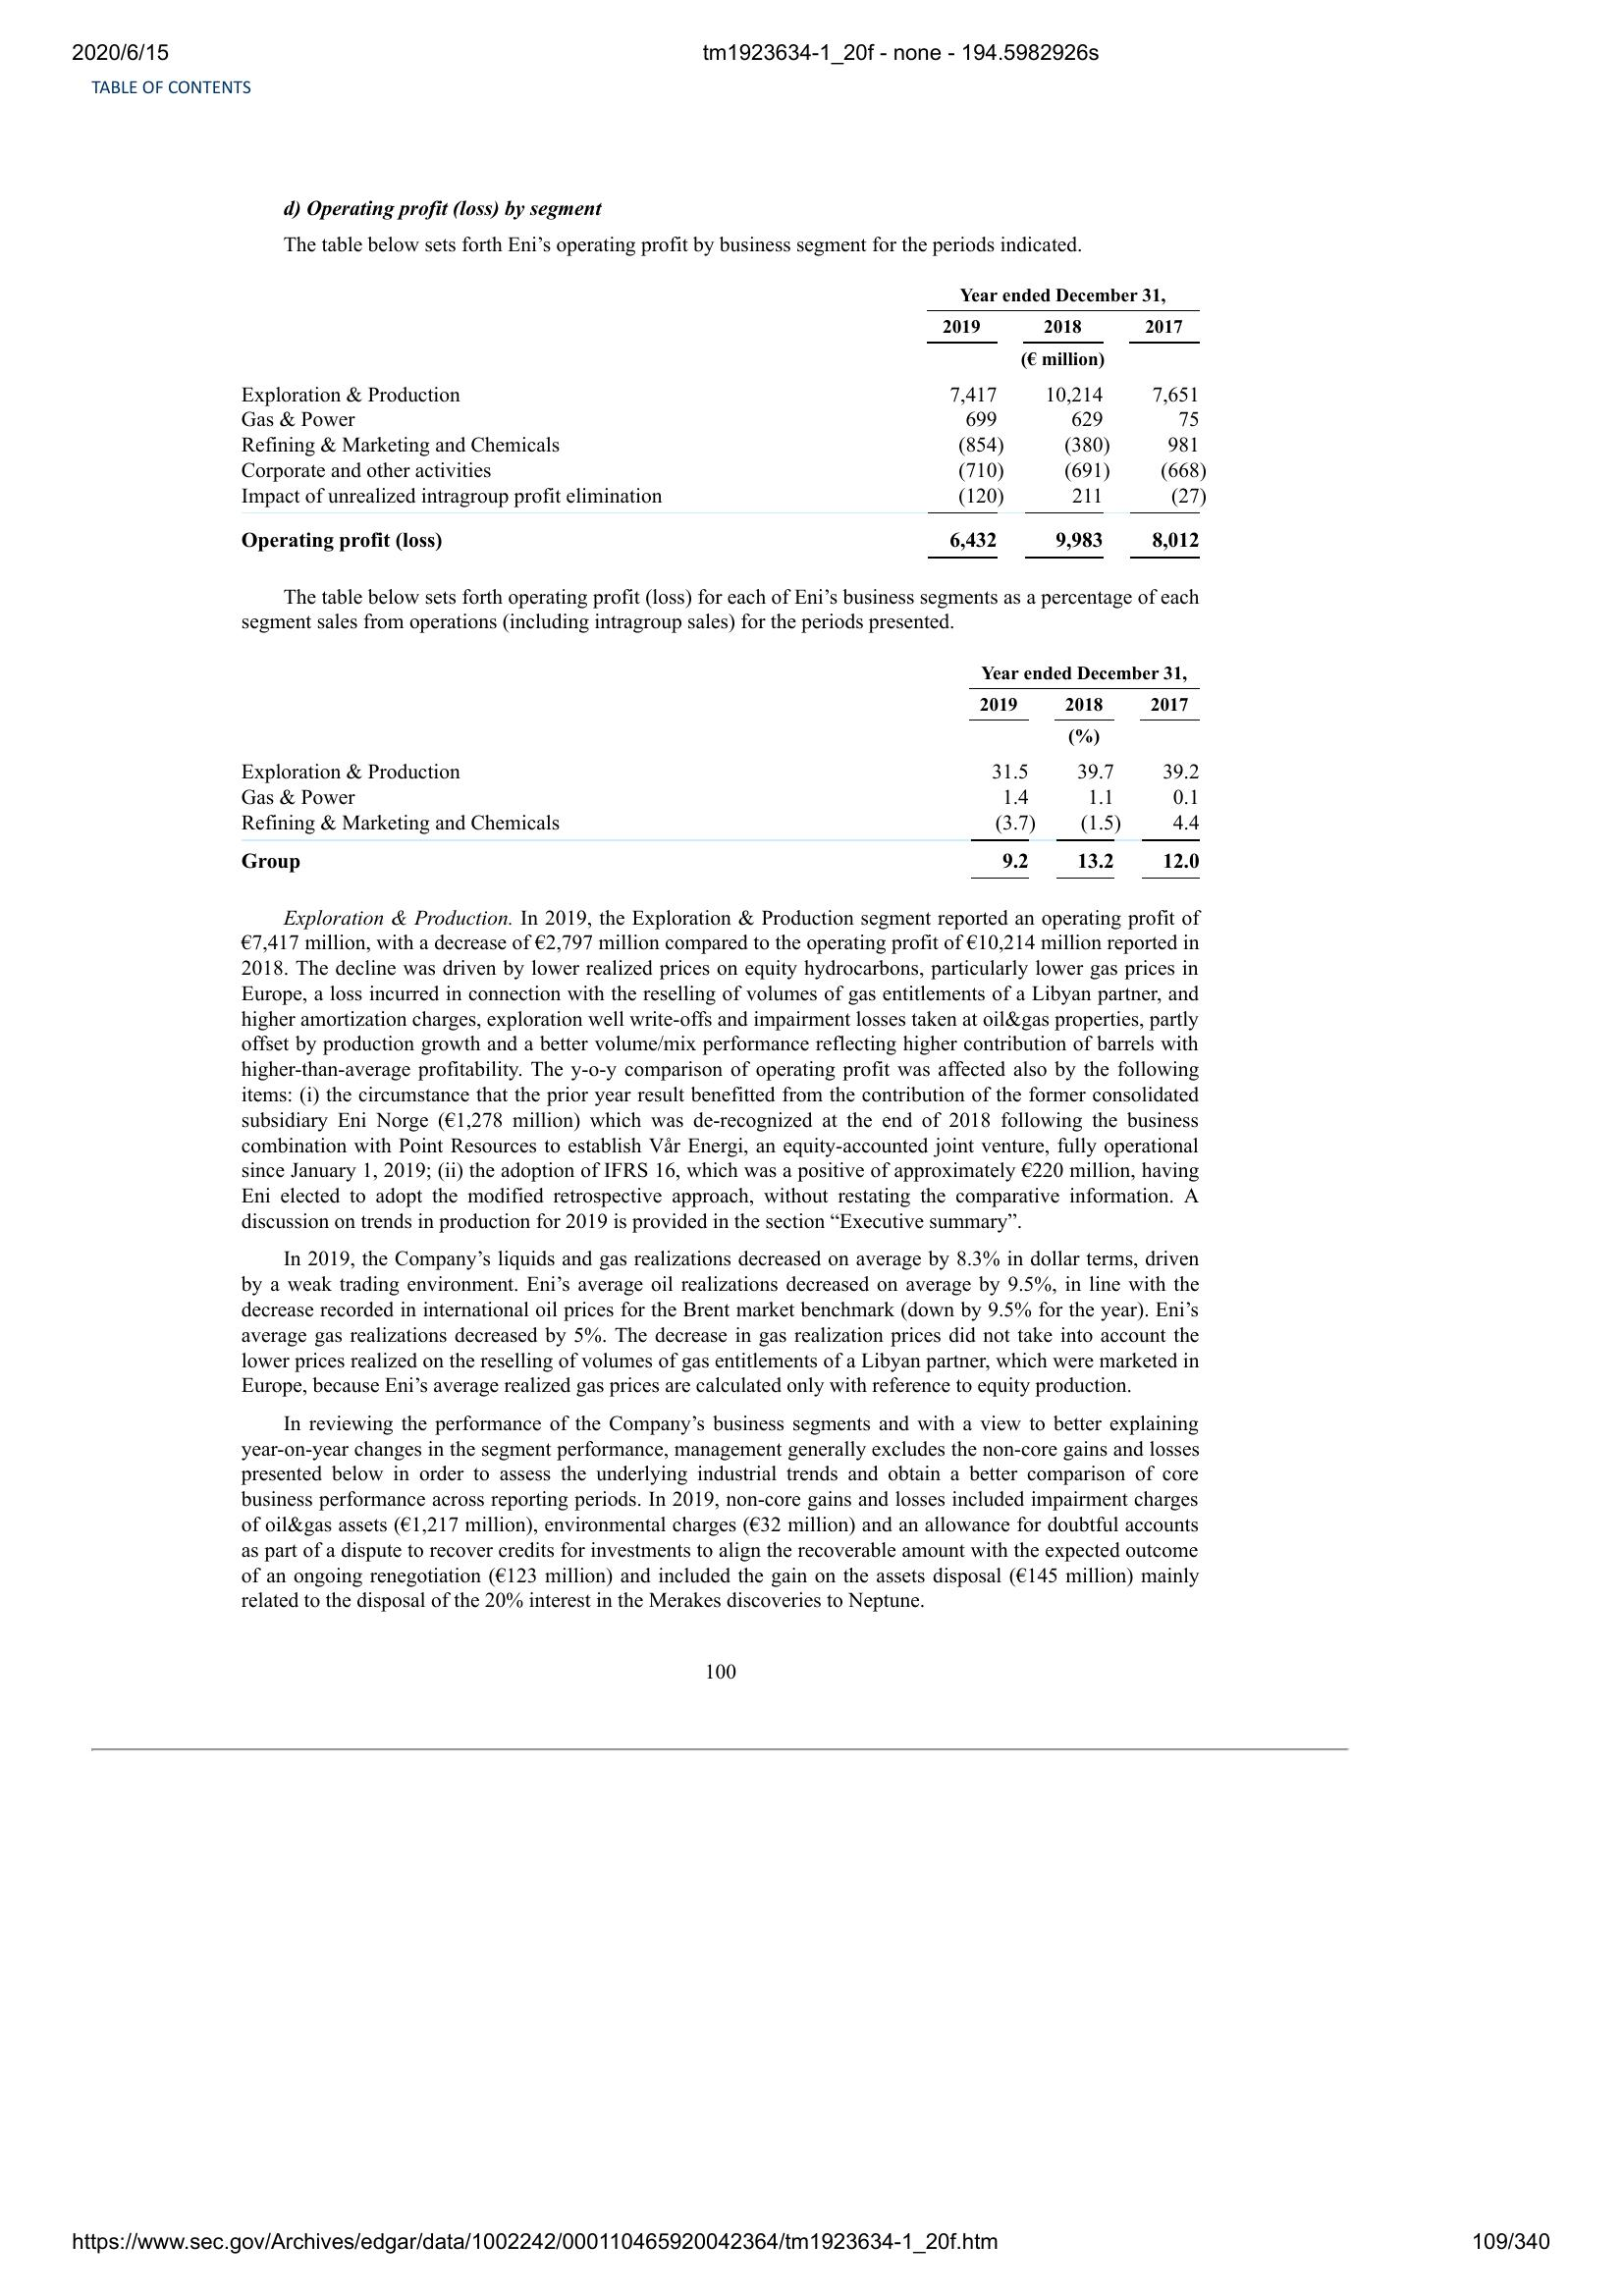table: (235, 283, 1217, 565), (242, 658, 1214, 876)
